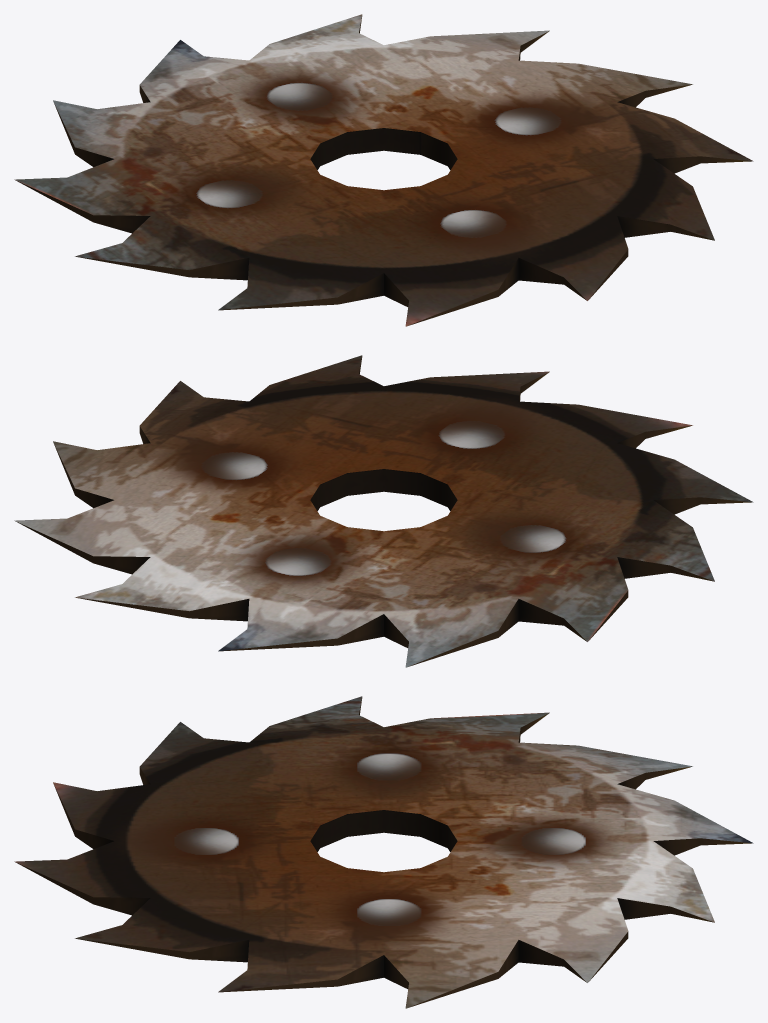
Rendered from MESH_AMB26_trap1.fbx.
3 renders of one model, top to bottom at view 1: azimuth 30°, elevation 25°; view 2: azimuth 150°, elevation 25°; view 3: azimuth 270°, elevation 25°, orthographic.
Visible parts, largest first — view 1: scie; view 2: scie; view 3: scie.
Boxes of the visible parts, box(x1,y1,x2,y2) form: scie: box(14, 14, 753, 326); scie: box(14, 355, 753, 667); scie: box(14, 696, 753, 1008).
Bounding box in the file's own units: 16.73 × 0.5689 × 16.73.
1 material, 1 textured.
